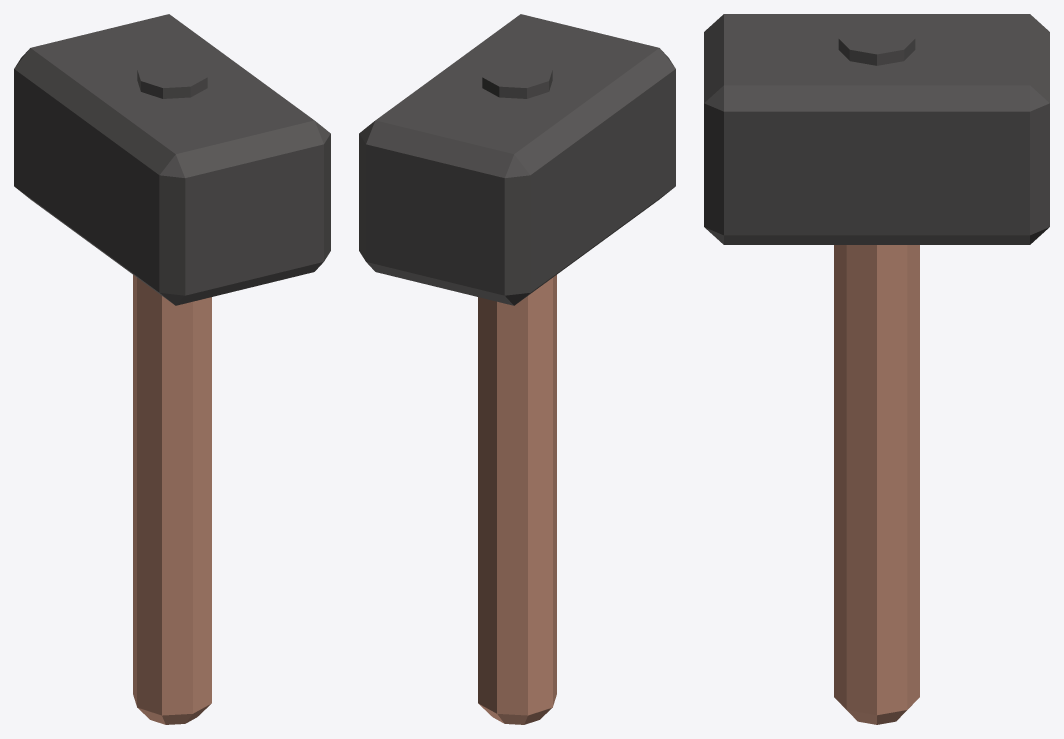
File: wpn-hammer.glb
3 renders of one model, left to right at view 1: azimuth 30°, elevation 25°; view 2: azimuth 150°, elevation 25°; view 3: azimuth 270°, elevation 25°, orthographic. The views are drawn at different scales.
Visible parts, largest first — view 1: Hammer; view 2: Hammer; view 3: Hammer.
Boxes of the visible parts, left/top/right/bottom form: Hammer: left=14, top=14, right=330, bottom=724; Hammer: left=359, top=14, right=675, bottom=724; Hammer: left=704, top=14, right=1049, bottom=724.
Bounding box in the file's own units: 16.54 × 59.14 × 27.45.
